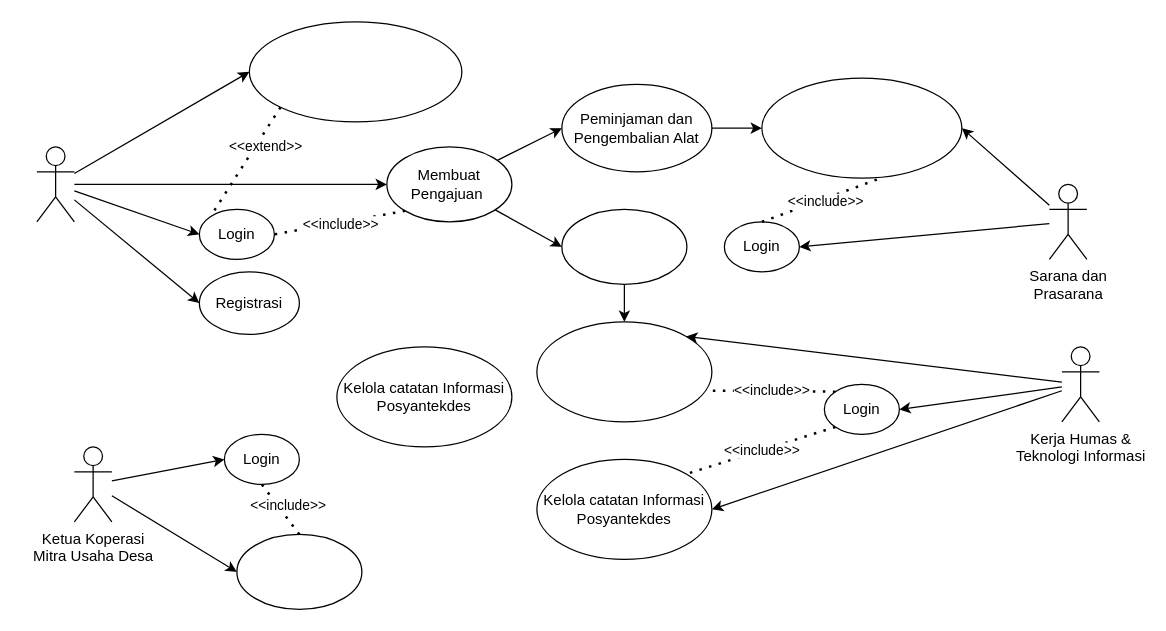
Some shapes in this 1166 by 631 pixel diagram are drawn without their labels. Each missing label, with the box of its shape:
Informasi Posyantekdes , Program dan Produk yang dijual: (248, 21, 462, 122)
Meneriam Formulir Observasi atau Kerjasama: (536, 321, 712, 422)
Meneriam Formulir Peminjaman dan Pengembalian Alat: (761, 77, 962, 178)
Observasi atau Kerjasama: (561, 208, 687, 284)
Pencatatan Keuangan: (236, 533, 362, 609)
Pengguna umum: (36, 146, 74, 222)
